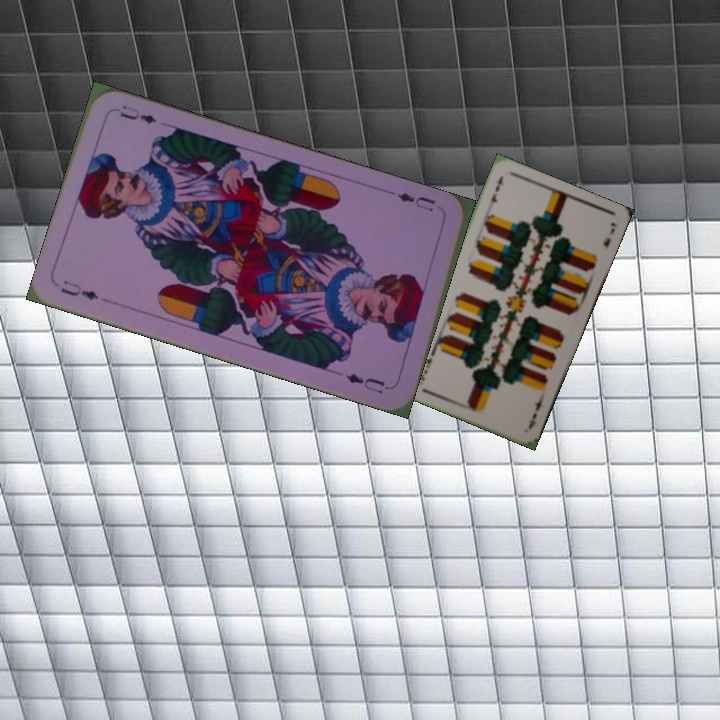E7: (484, 171, 506, 211), (524, 392, 546, 431)
EU: (388, 187, 438, 215), (56, 276, 102, 303)
